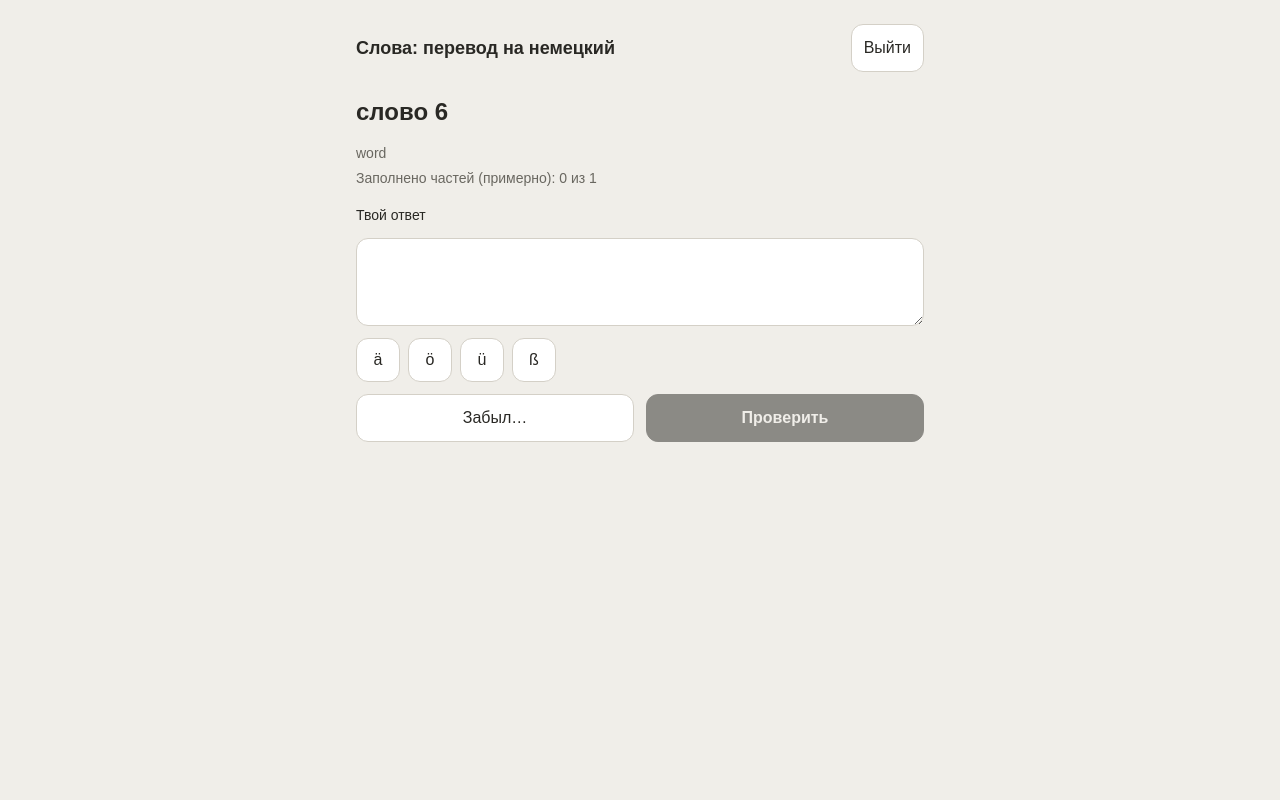
Test: «Уточнить поля» and card study actions from the written quiz (TA:115, TA:153) › Q2 «Не повторять» from that card: after the commit the card closes and the quiz goes on to the next question
Expected: the heading "слово 6" is shown, [356,98,448,125]
Type "falsch" into the text box at (640, 282), box [356,238,924,326]
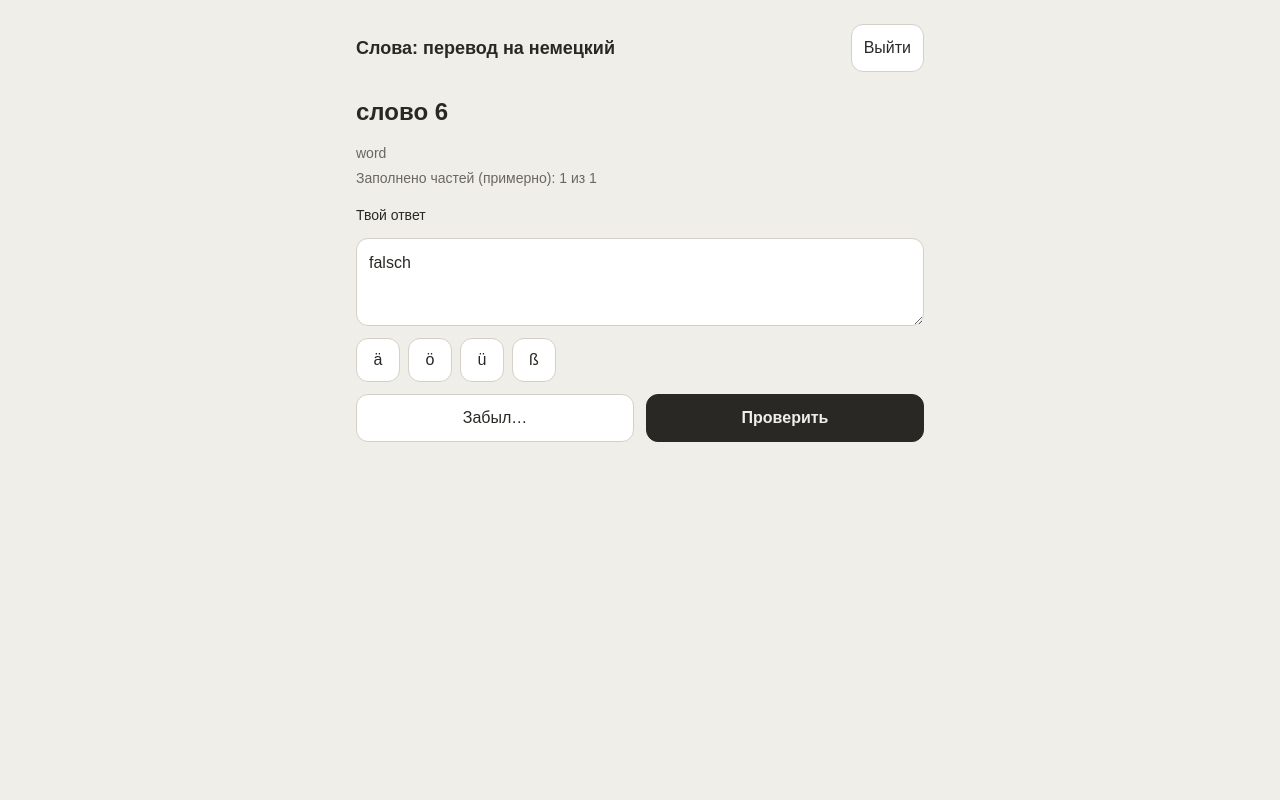
Click the button "Проверить" at (785, 418), box [646,394,924,442]
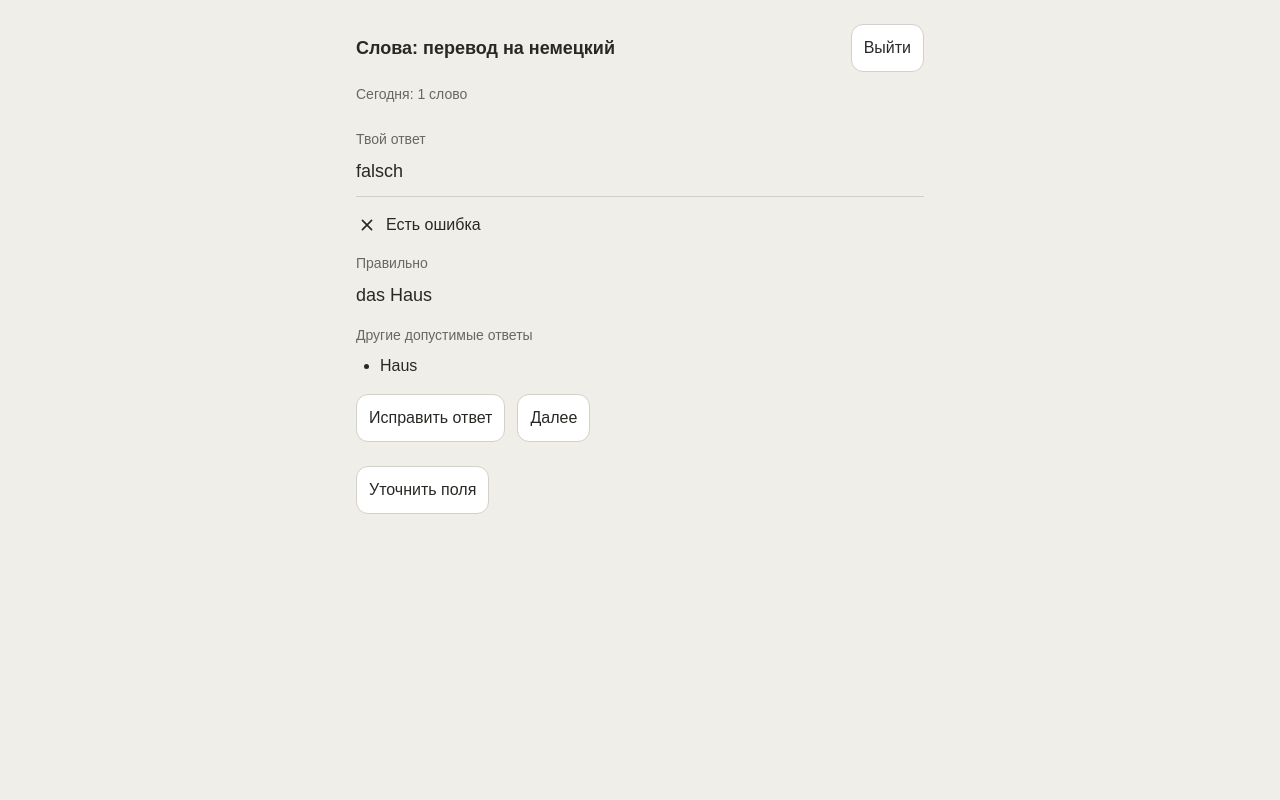
Expected: the text "Есть ошибка" is shown, [356,214,481,236]
Click the button "Уточнить поля" at (423, 490), box [356,466,489,514]
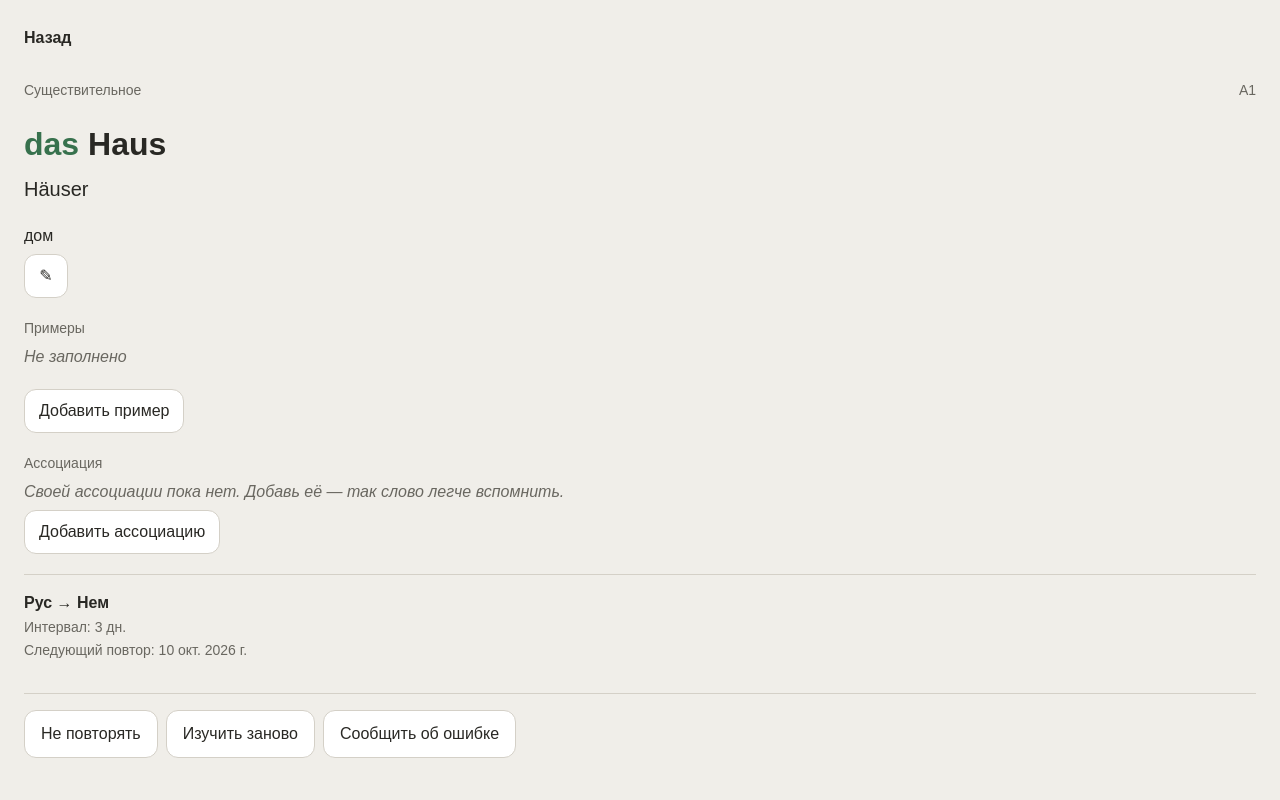
Expected: the button named "Изменить личный перевод" is enabled, [24,254,68,298]
Click the button "Не повторять" at (91, 734), box [24,710,158,758]
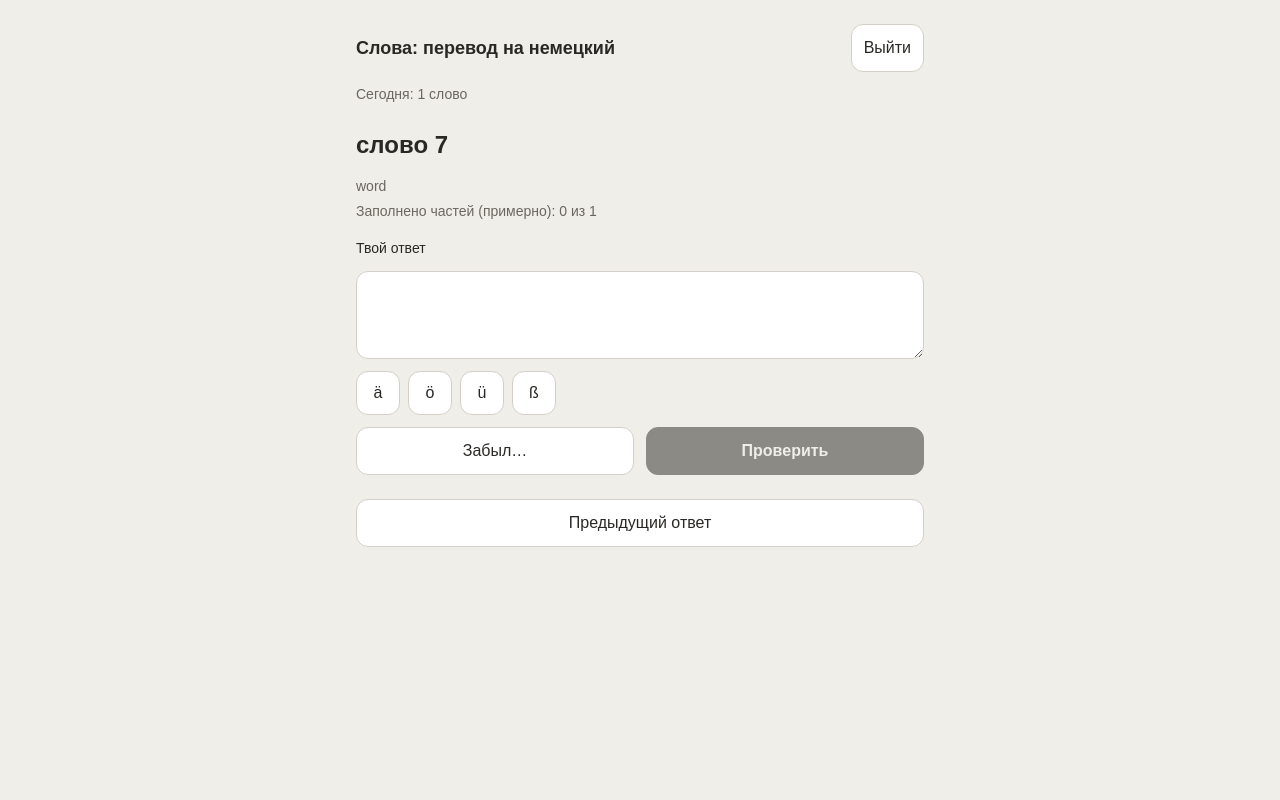
Expected: the text "Есть ошибка" is not shown
Expected: the heading "слово 7" is shown, [356,131,448,158]
